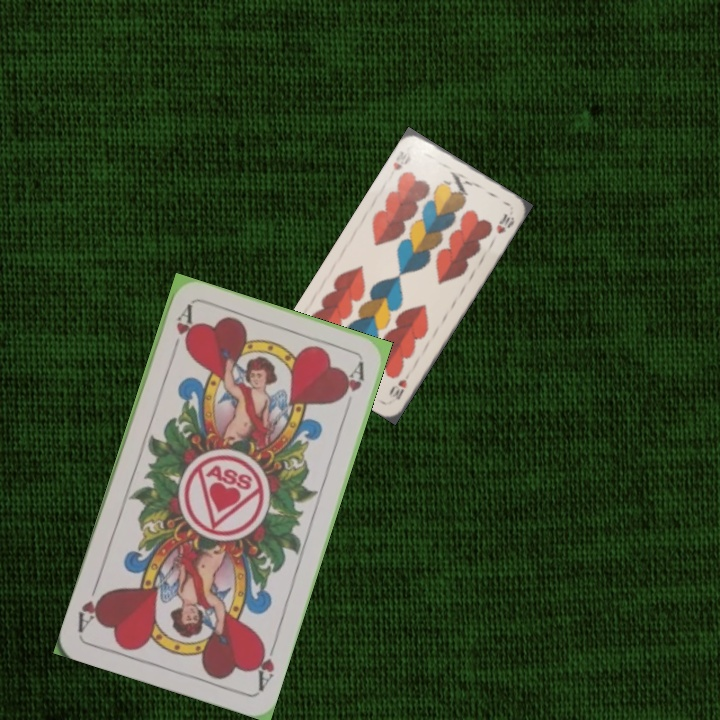H10: (389, 147, 414, 173), (386, 375, 410, 402)
HA: (250, 635, 280, 693), (166, 302, 196, 360)
